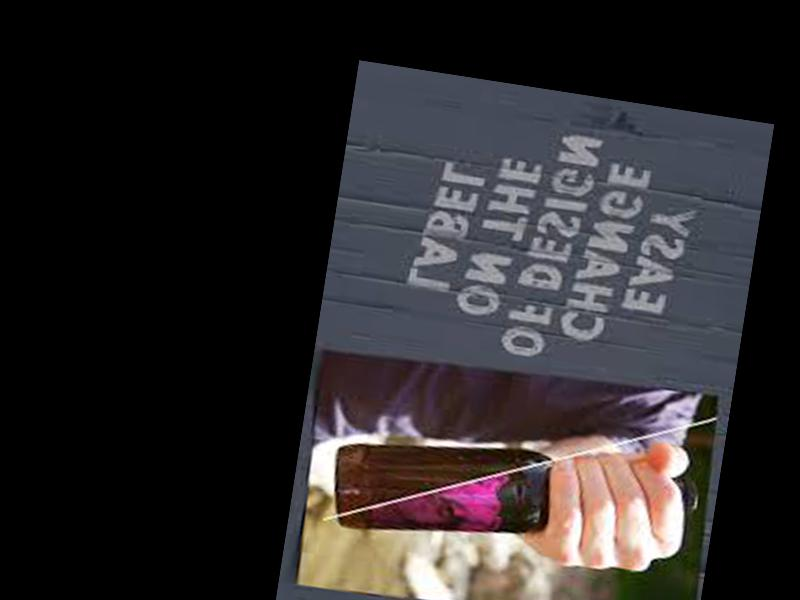Beer: (327, 419, 698, 575)
